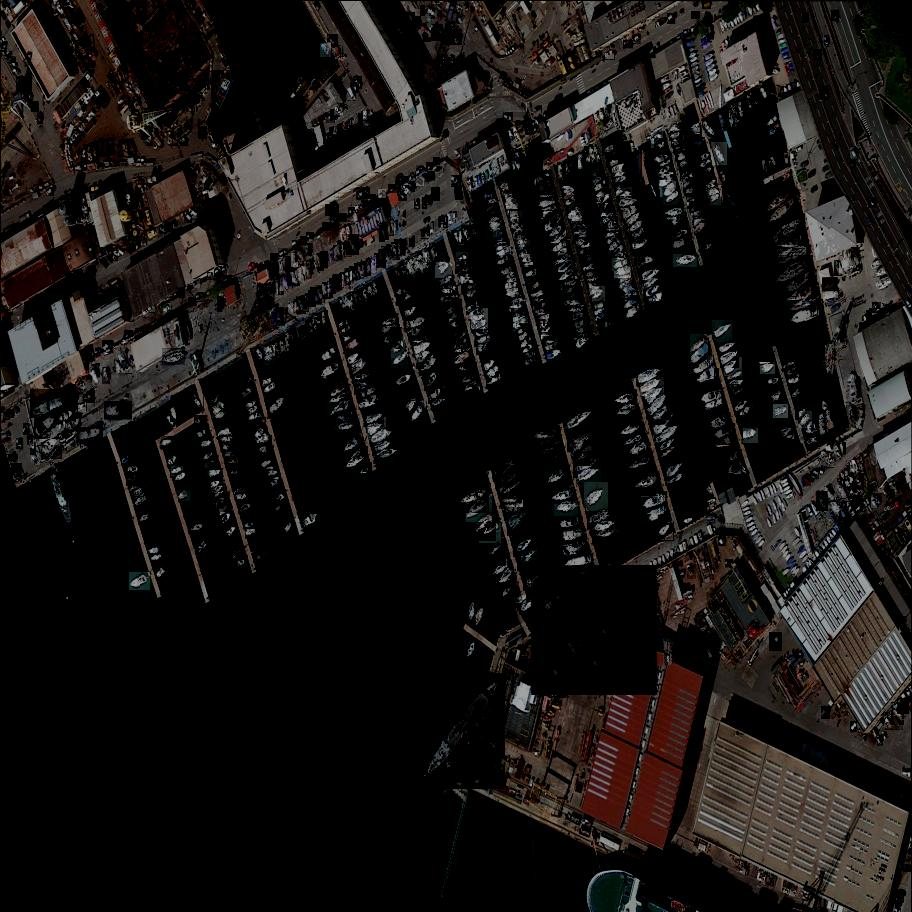large-vehicle: (439, 29, 464, 45), (885, 713, 904, 730), (768, 633, 784, 652), (890, 706, 905, 725), (15, 76, 31, 92), (431, 24, 445, 41), (329, 140, 345, 154), (896, 698, 910, 714), (324, 204, 341, 217), (584, 656, 599, 670), (892, 703, 907, 717), (421, 23, 435, 37), (884, 716, 894, 729)
ship: (526, 565, 664, 700), (410, 671, 508, 789), (44, 463, 78, 532), (533, 575, 578, 617), (765, 214, 810, 255), (28, 389, 82, 421), (771, 256, 818, 291), (210, 71, 241, 121), (775, 269, 821, 299), (765, 194, 802, 229), (784, 281, 824, 310), (456, 484, 495, 513), (771, 232, 809, 261), (570, 452, 609, 480), (650, 408, 681, 440), (531, 434, 565, 463), (561, 406, 596, 434), (622, 451, 657, 479), (787, 306, 827, 330), (491, 453, 522, 483), (470, 509, 499, 541), (464, 495, 496, 524), (36, 421, 70, 447), (629, 472, 664, 497), (653, 420, 683, 449), (687, 353, 718, 381), (538, 444, 566, 475), (339, 446, 371, 473), (366, 423, 400, 448), (506, 506, 534, 536), (582, 482, 610, 512), (482, 538, 510, 568), (774, 245, 814, 266), (32, 413, 63, 440), (572, 439, 598, 471), (495, 465, 527, 490), (560, 554, 596, 576), (515, 544, 543, 572), (685, 341, 713, 369), (543, 465, 572, 492), (561, 537, 592, 562), (524, 576, 552, 603), (503, 497, 531, 524), (645, 500, 672, 528), (321, 378, 351, 403), (585, 505, 615, 530), (566, 431, 601, 452), (637, 492, 670, 514), (620, 430, 650, 454), (521, 566, 548, 592), (488, 557, 514, 584), (645, 392, 671, 419), (512, 534, 540, 559), (644, 382, 669, 410), (617, 419, 647, 442), (266, 393, 291, 420), (612, 399, 641, 422), (821, 397, 839, 434), (496, 477, 526, 499), (708, 423, 738, 445), (691, 369, 721, 391), (635, 365, 666, 386), (298, 508, 324, 533), (662, 456, 688, 481), (41, 433, 65, 460), (318, 361, 345, 385), (718, 345, 745, 369), (589, 516, 621, 536), (575, 467, 605, 488), (527, 428, 562, 446), (763, 191, 800, 208), (102, 402, 135, 421), (718, 449, 744, 473), (328, 398, 355, 421), (706, 412, 733, 435), (722, 184, 743, 213), (642, 289, 672, 309), (381, 327, 406, 351), (497, 581, 523, 604), (592, 527, 623, 546), (341, 434, 365, 458), (573, 329, 596, 354), (609, 390, 639, 409), (627, 234, 654, 255), (697, 388, 725, 408), (625, 443, 653, 463), (646, 405, 674, 425), (542, 213, 565, 237), (555, 256, 579, 279), (657, 432, 680, 456), (477, 523, 504, 543), (371, 437, 399, 456), (639, 378, 667, 397), (620, 200, 643, 223), (408, 402, 429, 427), (710, 321, 735, 342), (374, 446, 403, 464), (417, 356, 444, 375), (403, 314, 430, 333), (637, 266, 664, 285), (622, 300, 645, 322), (366, 417, 389, 439), (499, 492, 527, 510), (703, 395, 727, 416), (348, 359, 373, 379), (785, 300, 823, 313), (622, 209, 644, 231), (460, 377, 482, 399), (688, 334, 710, 356), (733, 394, 755, 416), (561, 279, 582, 302), (423, 369, 444, 392), (389, 349, 412, 370), (642, 280, 665, 301), (75, 428, 105, 444), (712, 436, 740, 453), (559, 529, 587, 546), (128, 573, 153, 592), (356, 385, 381, 404), (333, 409, 358, 428), (444, 307, 466, 328), (725, 459, 747, 480), (160, 349, 187, 366), (557, 517, 584, 534), (627, 226, 652, 244), (412, 340, 437, 358), (552, 501, 580, 517), (535, 177, 556, 198), (546, 223, 568, 243), (59, 426, 81, 446), (415, 347, 435, 369), (470, 309, 490, 331), (382, 318, 402, 340), (723, 357, 745, 377), (441, 299, 464, 318), (393, 371, 416, 390), (717, 338, 740, 357), (549, 489, 576, 505), (669, 235, 694, 252), (669, 210, 689, 231), (642, 275, 663, 295), (560, 273, 582, 292), (557, 266, 579, 285), (353, 377, 375, 396), (725, 366, 747, 385), (710, 143, 728, 166), (536, 195, 560, 212), (472, 605, 489, 629), (133, 490, 153, 510), (362, 411, 387, 427), (346, 349, 366, 369), (491, 572, 516, 588), (571, 307, 590, 328), (319, 347, 340, 366), (656, 522, 677, 541), (659, 443, 678, 464), (116, 351, 134, 373), (429, 394, 452, 411), (539, 204, 563, 220), (602, 217, 621, 237), (615, 187, 635, 206), (625, 219, 645, 238), (550, 229, 569, 249), (213, 493, 232, 513), (64, 413, 84, 432), (427, 385, 447, 404), (481, 356, 500, 376), (76, 375, 95, 395), (833, 482, 852, 502), (607, 237, 625, 258), (400, 304, 421, 322), (357, 395, 382, 410), (531, 171, 553, 188), (452, 352, 474, 369), (484, 373, 506, 390), (826, 342, 836, 379), (377, 315, 400, 331), (591, 177, 610, 196), (735, 404, 754, 423), (517, 334, 536, 353), (701, 118, 719, 138), (655, 162, 675, 180), (565, 304, 589, 319), (355, 463, 375, 481), (389, 338, 407, 358), (769, 388, 787, 408), (515, 328, 535, 346), (550, 238, 571, 255), (459, 371, 480, 388), (464, 299, 485, 316), (408, 326, 429, 343), (405, 396, 422, 417), (335, 421, 360, 435), (573, 324, 596, 339), (563, 296, 586, 311), (663, 189, 682, 207), (566, 287, 584, 306), (485, 364, 503, 383), (777, 422, 796, 440), (657, 174, 677, 191), (608, 160, 628, 177), (728, 375, 748, 392), (672, 254, 698, 267), (327, 392, 351, 406), (671, 226, 693, 241), (570, 316, 592, 331), (575, 566, 597, 581), (566, 203, 584, 221), (599, 204, 616, 223), (653, 138, 670, 157), (660, 181, 679, 198), (210, 400, 227, 419), (194, 537, 211, 556), (466, 386, 485, 403), (450, 330, 470, 346), (411, 333, 431, 349), (476, 341, 496, 357), (820, 277, 840, 293), (511, 312, 531, 328), (771, 405, 792, 420), (345, 235, 360, 256), (616, 197, 640, 210), (89, 365, 103, 387), (466, 639, 480, 661), (589, 172, 607, 189), (570, 210, 587, 228), (620, 281, 637, 299), (766, 122, 783, 140), (262, 380, 280, 397), (219, 509, 236, 527), (618, 270, 634, 289), (605, 234, 624, 250), (553, 245, 572, 261), (201, 456, 220, 472), (435, 263, 454, 279), (253, 347, 269, 366), (599, 213, 619, 228), (58, 407, 78, 422), (743, 91, 756, 114), (351, 371, 372, 385), (849, 376, 859, 405), (650, 132, 667, 149), (240, 384, 257, 401), (693, 219, 710, 236), (563, 194, 581, 210), (623, 295, 641, 311), (468, 599, 479, 625), (665, 472, 687, 485), (843, 477, 856, 499), (271, 499, 290, 514), (343, 339, 362, 354), (512, 318, 531, 333), (286, 268, 301, 287), (611, 259, 631, 273), (551, 255, 574, 267), (436, 294, 459, 306), (567, 156, 580, 177), (536, 189, 557, 202), (521, 357, 542, 370), (573, 229, 590, 245), (572, 223, 589, 239), (268, 474, 284, 491), (244, 396, 261, 412), (208, 393, 224, 410), (166, 454, 183, 470), (460, 277, 477, 293), (798, 412, 814, 429), (692, 211, 709, 227), (500, 263, 517, 279), (520, 342, 537, 358), (587, 167, 605, 182), (658, 156, 676, 171), (201, 449, 219, 464), (729, 102, 744, 120), (455, 259, 473, 274), (742, 429, 760, 444), (612, 175, 631, 189), (254, 550, 273, 564), (473, 327, 492, 341), (816, 492, 830, 511), (280, 273, 294, 292), (664, 207, 686, 219), (602, 229, 622, 242), (457, 362, 477, 375), (453, 346, 473, 359), (470, 321, 490, 334), (396, 293, 416, 306), (730, 470, 750, 483), (571, 217, 587, 233), (272, 492, 288, 508), (465, 289, 481, 305), (794, 405, 810, 421), (528, 279, 544, 295), (259, 374, 276, 389), (224, 522, 239, 539), (173, 471, 190, 486), (784, 364, 801, 379), (820, 451, 835, 468), (506, 287, 523, 302), (502, 270, 519, 285), (610, 247, 628, 261), (619, 291, 640, 303), (252, 436, 273, 448), (208, 477, 226, 491), (438, 286, 459, 298), (521, 349, 539, 363), (131, 486, 150, 499), (451, 339, 470, 352), (448, 320, 467, 333), (416, 252, 429, 271), (495, 247, 514, 260), (495, 255, 514, 268), (759, 156, 770, 178), (599, 198, 614, 214), (613, 267, 633, 279), (581, 252, 596, 268), (592, 287, 607, 303), (593, 302, 608, 318), (214, 487, 229, 503), (234, 556, 250, 571), (154, 565, 169, 581), (474, 335, 494, 347), (462, 284, 482, 296), (342, 331, 358, 346), (682, 177, 697, 193), (509, 211, 524, 227), (517, 247, 533, 262), (491, 223, 506, 239), (580, 261, 597, 275), (601, 141, 618, 155), (194, 427, 211, 441), (216, 426, 233, 440), (337, 319, 354, 333), (407, 259, 421, 276), (513, 221, 527, 238), (394, 239, 408, 256), (845, 500, 859, 517), (823, 486, 837, 503), (516, 324, 533, 338), (618, 278, 636, 291), (838, 255, 851, 273), (380, 247, 393, 265), (491, 230, 509, 243), (511, 308, 529, 321), (847, 406, 857, 429), (652, 152, 671, 164), (461, 226, 473, 245), (729, 386, 748, 398), (545, 349, 564, 361), (273, 308, 285, 327), (766, 116, 781, 131), (254, 427, 269, 442), (666, 122, 681, 137), (594, 186, 610, 200), (594, 309, 610, 323), (247, 404, 263, 418), (120, 454, 136, 468), (676, 156, 692, 170), (536, 307, 552, 321), (586, 280, 603, 293), (238, 502, 255, 515), (438, 277, 455, 290), (760, 362, 777, 375), (308, 317, 321, 334), (532, 301, 549, 314), (831, 500, 844, 517), (193, 391, 204, 411), (595, 194, 613, 206), (188, 522, 206, 534), (160, 437, 178, 449), (269, 342, 281, 360), (510, 157, 522, 175), (516, 149, 525, 173), (524, 269, 542, 281), (545, 341, 563, 353), (310, 287, 322, 305), (296, 297, 308, 315), (178, 490, 193, 504), (804, 422, 819, 436), (672, 141, 687, 155), (504, 194, 518, 209), (515, 233, 530, 247), (487, 207, 502, 221), (851, 247, 862, 266), (508, 303, 527, 314), (543, 336, 562, 347), (215, 482, 228, 498), (245, 527, 261, 540), (137, 512, 153, 525), (164, 414, 177, 430), (819, 412, 827, 438), (688, 201, 704, 214), (537, 313, 553, 326), (294, 247, 307, 263), (597, 320, 614, 332), (113, 360, 125, 377), (458, 273, 475, 285), (504, 277, 521, 289), (265, 345, 277, 362), (340, 271, 352, 288), (333, 274, 345, 291), (635, 256, 657, 265), (467, 309, 485, 320), (756, 356, 774, 367), (671, 135, 686, 148), (680, 167, 693, 182), (769, 155, 782, 170), (699, 160, 714, 173), (539, 319, 554, 332), (287, 301, 300, 316), (717, 169, 729, 185), (578, 247, 594, 259), (787, 374, 803, 386), (357, 289, 369, 305), (281, 334, 293, 350), (312, 314, 324, 330), (352, 291, 362, 310), (316, 285, 326, 304), (728, 104, 735, 131), (275, 338, 284, 359), (256, 445, 273, 456), (399, 262, 410, 279), (757, 83, 768, 100), (170, 406, 181, 423), (668, 130, 685, 141), (529, 290, 546, 301), (852, 496, 863, 513), (292, 267, 303, 284), (589, 285, 603, 298), (82, 391, 96, 404), (456, 252, 469, 266), (320, 43, 333, 57), (675, 150, 688, 164), (503, 190, 517, 203), (689, 121, 703, 134), (507, 203, 520, 217), (563, 191, 578, 203), (584, 146, 593, 166), (206, 469, 224, 479), (451, 231, 463, 246), (126, 475, 141, 487), (394, 287, 412, 297), (833, 445, 843, 463), (683, 186, 698, 198), (686, 197, 701, 209), (338, 298, 350, 313), (510, 219, 525, 231), (487, 215, 502, 227), (301, 262, 311, 280), (834, 261, 845, 277), (284, 519, 295, 535), (225, 457, 241, 468), (246, 411, 262, 422), (690, 208, 706, 219), (516, 239, 532, 250), (386, 245, 397, 261), (279, 336, 288, 355), (504, 283, 521, 293), (355, 290, 365, 307), (391, 243, 401, 260), (322, 282, 332, 299), (495, 244, 512, 254), (265, 283, 275, 300), (506, 200, 519, 213), (737, 98, 745, 119), (129, 482, 143, 494), (498, 177, 512, 189), (698, 152, 712, 164), (709, 194, 723, 206), (522, 259, 536, 271), (508, 208, 522, 220), (561, 186, 576, 197), (606, 157, 621, 168), (170, 466, 185, 477), (339, 327, 354, 338), (823, 291, 838, 302), (520, 254, 535, 265), (485, 203, 500, 214), (588, 145, 597, 163), (842, 250, 851, 268), (367, 283, 376, 301), (308, 290, 317, 308), (312, 254, 321, 272), (613, 254, 629, 264), (577, 242, 593, 252), (583, 270, 599, 280), (766, 377, 782, 387), (699, 242, 715, 252), (530, 296, 546, 306), (692, 125, 704, 138), (560, 181, 574, 192), (233, 485, 247, 496), (542, 332, 556, 343), (457, 268, 474, 277), (427, 248, 436, 265), (539, 327, 556, 336), (278, 258, 287, 275), (471, 220, 479, 239), (240, 376, 255, 386), (260, 458, 275, 468), (217, 506, 232, 516), (394, 268, 404, 283), (510, 296, 525, 306), (269, 263, 279, 278), (494, 240, 510, 249), (278, 277, 286, 295), (255, 417, 268, 428), (783, 360, 796, 371), (705, 177, 718, 188), (692, 133, 705, 144), (592, 301, 606, 311), (263, 464, 277, 474), (194, 416, 208, 426), (73, 402, 87, 412), (243, 520, 257, 530), (436, 257, 450, 267), (636, 151, 641, 179), (850, 460, 860, 474), (386, 219, 394, 236), (586, 276, 601, 285), (681, 176, 696, 185), (363, 286, 370, 305), (703, 167, 715, 178), (839, 508, 849, 521), (102, 368, 110, 384), (783, 150, 791, 166), (357, 263, 365, 279), (301, 296, 309, 312), (321, 252, 329, 268), (148, 546, 162, 555), (501, 187, 515, 196), (349, 267, 358, 281), (379, 250, 386, 268), (383, 222, 390, 240), (318, 253, 325, 271), (224, 450, 236, 460), (458, 230, 466, 245), (220, 435, 235, 443), (881, 304, 891, 316), (265, 345, 271, 365), (432, 244, 439, 261), (320, 311, 327, 328), (307, 320, 314, 337), (844, 468, 851, 485), (201, 440, 214, 449), (213, 411, 226, 420), (513, 231, 526, 240), (481, 187, 494, 196), (415, 256, 421, 275), (350, 294, 356, 313), (126, 465, 140, 473), (286, 330, 293, 346), (284, 256, 291, 272), (847, 465, 855, 479), (489, 223, 503, 231), (267, 470, 279, 479), (229, 468, 241, 477), (708, 190, 720, 199), (500, 183, 512, 192), (370, 255, 376, 273), (366, 258, 372, 276), (341, 241, 347, 259), (485, 197, 497, 206), (858, 404, 865, 419), (291, 253, 298, 268), (345, 241, 352, 256), (235, 492, 248, 500), (838, 442, 846, 455), (354, 263, 360, 280), (345, 268, 351, 285), (392, 218, 398, 235), (379, 224, 385, 241), (275, 280, 281, 297), (579, 153, 584, 173), (808, 436, 819, 445), (484, 193, 495, 202), (849, 250, 855, 266), (329, 249, 335, 265), (557, 163, 562, 182), (565, 159, 570, 178), (307, 260, 312, 279), (575, 239, 588, 246), (222, 445, 235, 452), (783, 433, 796, 440), (374, 253, 380, 268), (333, 245, 339, 260), (197, 549, 208, 557), (373, 281, 378, 298), (337, 242, 342, 259), (299, 265, 304, 282), (425, 250, 429, 270), (232, 547, 242, 555), (152, 555, 162, 563), (363, 261, 368, 277), (329, 279, 333, 298), (217, 296, 222, 311), (407, 261, 411, 279), (769, 159, 774, 172), (751, 90, 755, 105), (706, 185, 716, 191), (272, 313, 276, 328), (307, 294, 312, 306), (306, 244, 311, 255), (333, 276, 336, 293), (346, 297, 349, 311), (295, 299, 298, 313), (341, 274, 344, 287)
small-vehicle: (853, 473, 866, 492), (355, 188, 372, 201), (326, 35, 340, 49), (654, 19, 670, 31), (102, 341, 116, 354), (425, 6, 438, 19), (819, 86, 831, 100), (219, 244, 231, 257), (346, 87, 357, 101), (162, 303, 174, 315), (451, 176, 463, 188), (10, 463, 22, 475), (525, 120, 534, 136), (353, 76, 364, 89), (122, 330, 135, 341), (821, 707, 832, 720), (868, 197, 879, 210), (183, 211, 194, 223), (206, 198, 217, 210), (401, 186, 413, 197), (223, 275, 235, 286), (248, 262, 259, 274), (872, 493, 883, 505), (646, 48, 658, 59), (198, 126, 208, 139), (431, 188, 440, 202), (687, 565, 696, 579), (213, 267, 224, 278), (176, 288, 187, 299), (802, 475, 813, 486), (382, 3, 393, 14), (667, 13, 678, 24), (631, 34, 642, 45), (187, 209, 199, 219), (133, 240, 143, 252), (397, 191, 409, 201), (195, 292, 207, 302), (809, 469, 821, 479), (872, 302, 882, 314), (831, 10, 841, 22), (406, 12, 416, 24), (390, 14, 400, 26), (502, 112, 514, 122), (335, 46, 344, 59), (850, 146, 859, 159), (401, 32, 410, 45), (164, 222, 175, 232), (329, 110, 339, 121), (416, 166, 426, 177), (426, 171, 437, 181), (422, 173, 432, 184), (31, 452, 41, 463), (330, 217, 341, 227), (278, 249, 289, 259), (306, 130, 316, 141), (691, 11, 702, 21), (72, 270, 84, 279), (23, 423, 32, 435), (819, 744, 831, 753), (813, 50, 822, 62), (604, 51, 616, 60), (338, 103, 348, 113), (368, 195, 378, 205), (378, 189, 388, 199), (408, 171, 418, 181), (87, 352, 97, 362), (299, 236, 309, 246), (180, 137, 190, 147), (25, 92, 35, 102), (420, 6, 430, 16), (333, 108, 344, 117), (387, 185, 398, 194), (322, 222, 333, 231), (415, 177, 426, 186), (408, 181, 417, 192), (187, 297, 198, 306), (849, 722, 858, 733), (406, 44, 415, 55), (396, 23, 405, 34), (444, 58, 453, 69), (31, 102, 40, 113), (413, 24, 422, 35), (801, 12, 810, 23), (453, 150, 462, 161), (708, 25, 715, 39), (622, 41, 634, 49), (206, 272, 216, 281), (110, 252, 120, 261), (362, 121, 372, 130), (350, 83, 359, 93), (348, 207, 357, 217), (292, 241, 302, 250), (725, 559, 734, 569), (46, 188, 56, 197), (398, 30, 407, 40), (423, 33, 433, 42), (159, 300, 170, 308), (16, 439, 24, 450), (0, 41, 8, 52), (881, 732, 889, 743), (701, 1, 712, 9), (318, 149, 330, 156), (871, 497, 878, 509), (3, 411, 12, 420), (455, 192, 464, 201), (454, 186, 463, 195), (271, 254, 280, 263), (158, 226, 168, 234), (186, 286, 196, 294), (325, 116, 335, 124), (425, 162, 435, 170), (896, 890, 906, 898), (414, 17, 422, 27), (443, 216, 449, 229), (27, 434, 34, 445), (324, 133, 331, 144), (139, 237, 147, 246), (129, 243, 137, 252), (193, 280, 202, 288), (142, 311, 151, 319), (7, 410, 15, 419), (395, 180, 403, 189), (896, 895, 905, 903), (146, 137, 154, 146), (534, 106, 543, 114), (422, 197, 428, 209), (447, 213, 453, 225), (438, 217, 444, 229), (167, 295, 177, 302), (199, 204, 206, 214), (333, 126, 340, 136), (877, 736, 884, 746), (706, 651, 713, 661), (681, 584, 691, 591), (415, 199, 421, 210), (428, 195, 434, 206), (37, 113, 43, 124), (425, 227, 431, 238), (29, 441, 37, 449), (306, 232, 314, 240), (895, 900, 903, 908), (171, 221, 178, 230), (148, 307, 157, 314), (13, 407, 20, 416), (3, 437, 12, 444), (31, 446, 37, 456), (1, 433, 11, 439), (866, 311, 872, 321), (824, 36, 830, 46), (906, 689, 912, 699), (532, 123, 538, 133), (95, 349, 103, 356), (808, 475, 816, 482), (683, 30, 691, 37), (330, 128, 335, 139), (338, 124, 343, 135), (35, 457, 41, 466), (427, 13, 433, 22), (409, 239, 415, 248), (218, 196, 223, 206), (422, 229, 427, 239), (339, 214, 346, 221), (9, 454, 16, 461), (401, 177, 409, 183), (677, 571, 685, 577), (903, 866, 912, 871), (851, 160, 856, 169), (450, 56, 455, 65), (66, 274, 72, 281), (12, 69, 19, 75), (359, 113, 363, 123), (440, 62, 444, 72), (144, 135, 149, 143), (344, 123, 348, 132), (434, 158, 440, 164), (437, 65, 441, 74), (141, 133, 146, 140), (829, 455, 833, 463), (5, 51, 11, 56), (362, 201, 368, 206), (15, 472, 21, 477), (8, 57, 14, 62), (430, 223, 433, 233), (355, 206, 362, 210), (364, 112, 367, 120), (11, 63, 17, 67), (454, 212, 457, 220), (349, 120, 351, 129)
